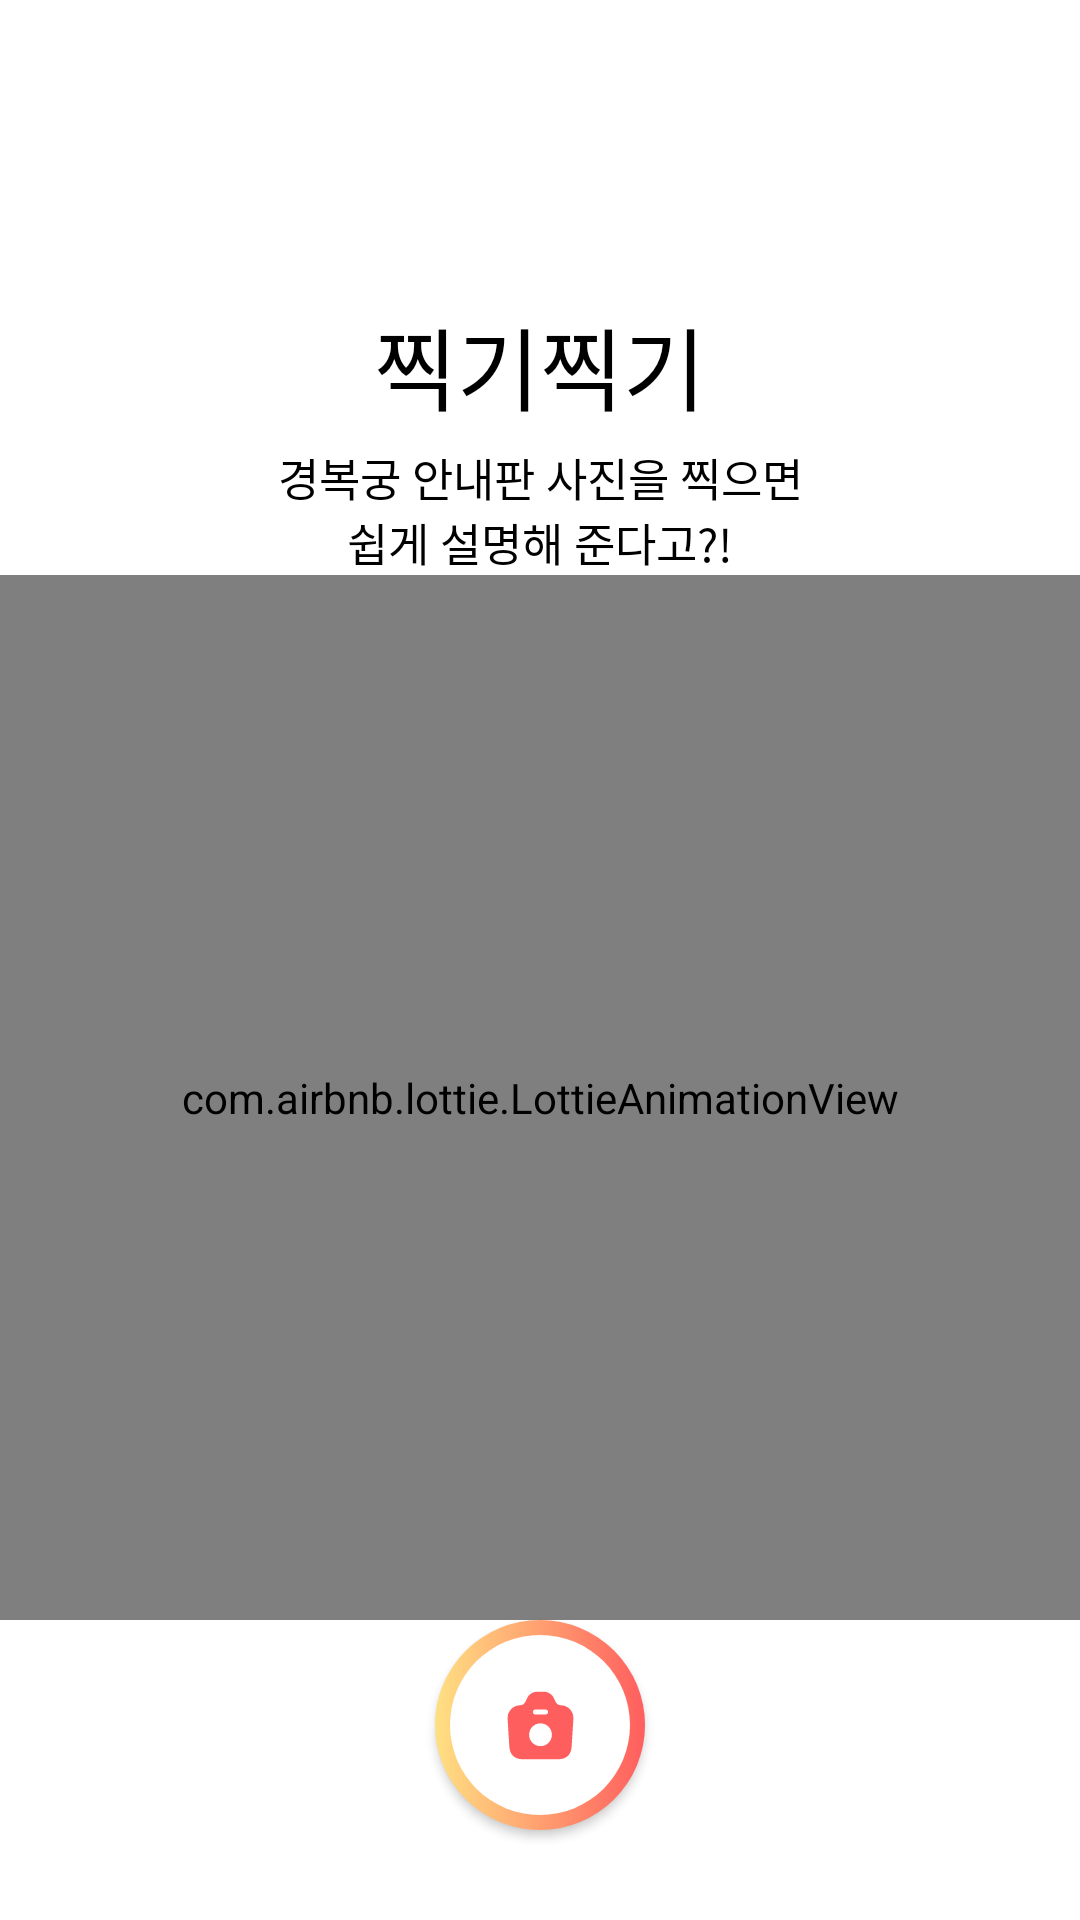

Locate icon controls on the screen. Image size 1080x1920, boxes as (x1,y1,x2,y2).
camera: (507,1691,574,1760)
